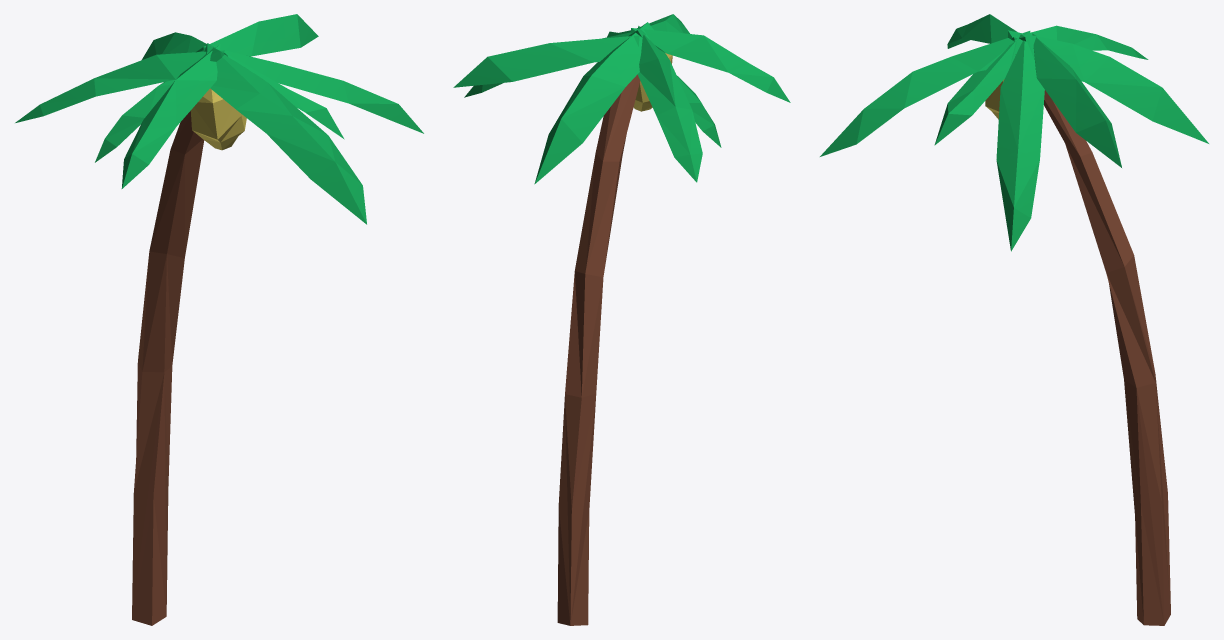
Rendered from Tree_11_gradient_green_vc.fbx.
3 renders of one model, left to right at view 1: azimuth 30°, elevation 25°; view 2: azimuth 150°, elevation 25°; view 3: azimuth 270°, elevation 25°, orthographic. The views are drawn at different scales.
Visible parts, largest first — view 1: Tree_11_gradient_green_vc; view 2: Tree_11_gradient_green_vc; view 3: Tree_11_gradient_green_vc.
Part boxes in pixels (<box>): Tree_11_gradient_green_vc: <box>15,14,423,625</box>; Tree_11_gradient_green_vc: <box>453,14,790,625</box>; Tree_11_gradient_green_vc: <box>820,14,1208,625</box>.
Bounding box in the file's own units: 117 × 207 × 124.
